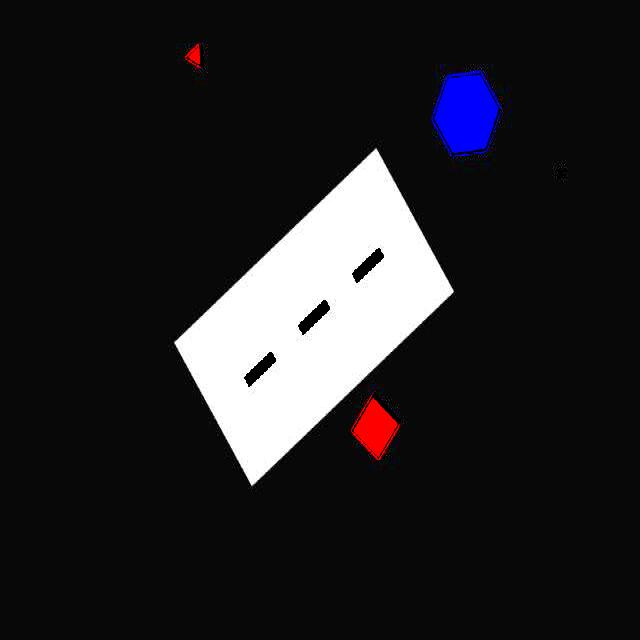blue_hexagon: (432, 70, 501, 158)
red_square: (352, 394, 399, 459)
red_triangle: (186, 43, 203, 69)
